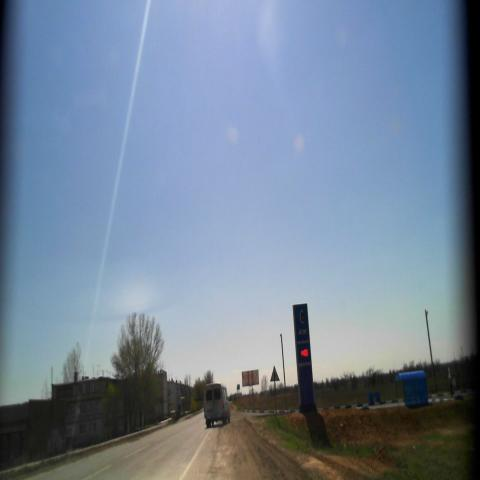2_3_2: (270, 364, 280, 382)
